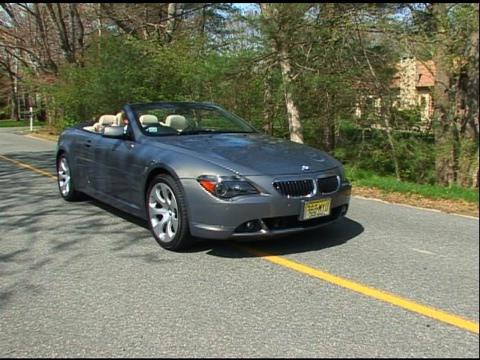Car: (41, 84, 355, 271)
